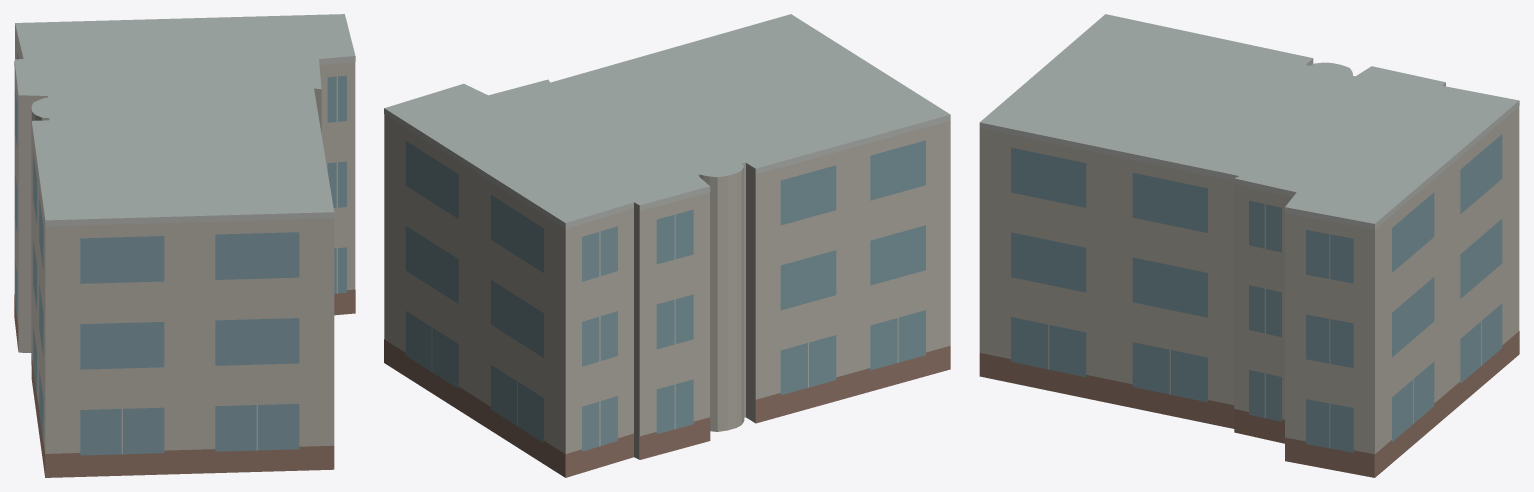
The model's file is survey-upis-32897158.glb.
The picture shows the model from 3 angles, left to right: view 1: azimuth 30°, elevation 25°; view 2: azimuth 150°, elevation 25°; view 3: azimuth 270°, elevation 25°; orthographic projection.
Visible parts, largest first — view 1: survey-upis-32897158.tmp; view 2: survey-upis-32897158.tmp; view 3: survey-upis-32897158.tmp.
Part boxes in pixels (left/top/right/bottom): survey-upis-32897158.tmp: left=14, top=14, right=355, bottom=477; survey-upis-32897158.tmp: left=384, top=14, right=950, bottom=477; survey-upis-32897158.tmp: left=979, top=14, right=1519, bottom=477.
Size of the model in its own units: 18.62 by 10.5 by 20.23.
